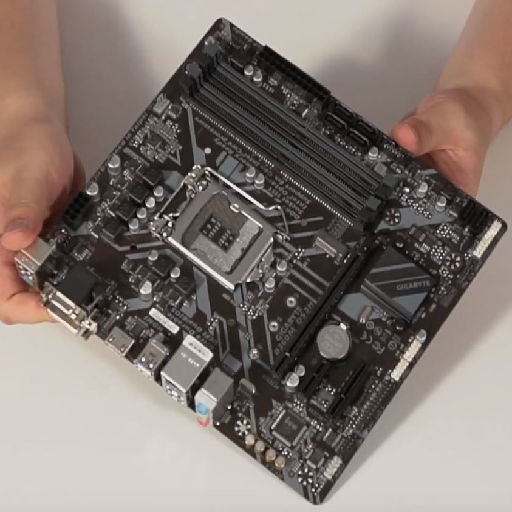CPU: (159, 174, 279, 287)
GPU: (271, 235, 381, 377)
MOTHERBOARD: (16, 15, 504, 502)
RAM: (176, 41, 400, 232)
SSD: (312, 230, 347, 266)
